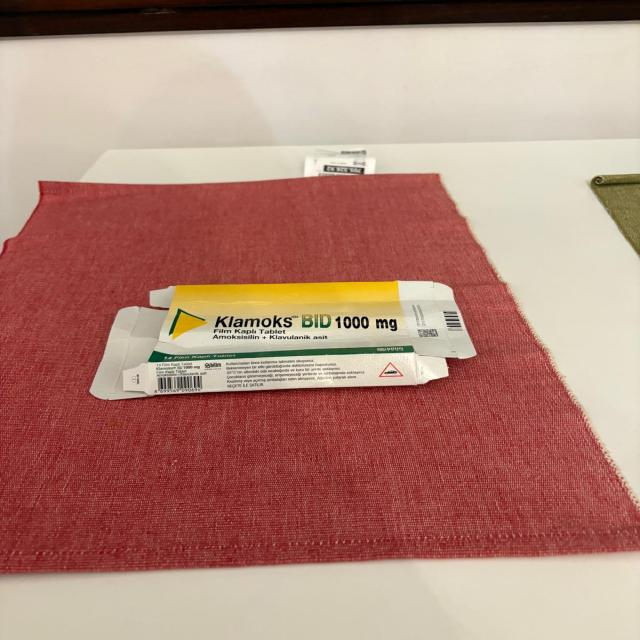damaged_package: (87, 280, 478, 406)
